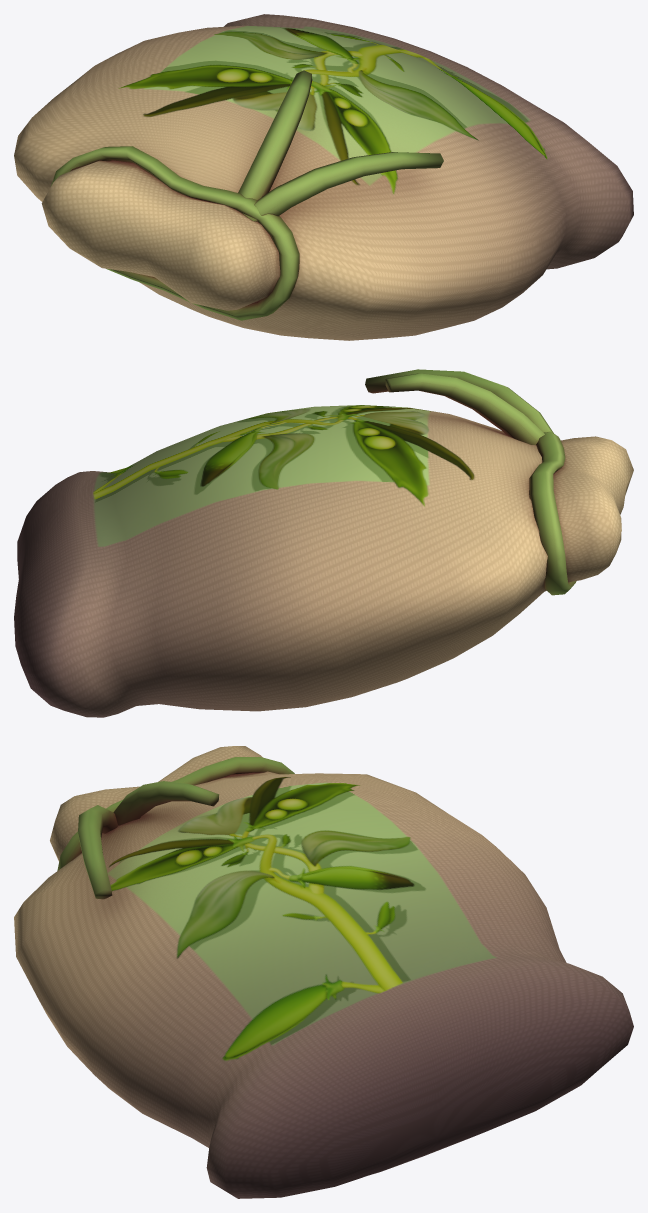
Rendered from PeasumSeed.fbx.
The picture shows the model from 3 angles, top to bottom: view 1: azimuth 30°, elevation 25°; view 2: azimuth 150°, elevation 25°; view 3: azimuth 270°, elevation 25°; orthographic projection. The views are drawn at different scales.
Parts seen in each view (by area): view 1: SemillasPeasum; view 2: SemillasPeasum; view 3: SemillasPeasum.
Part boxes in pixels (<box>): SemillasPeasum: <box>14,14,633,340</box>; SemillasPeasum: <box>14,369,633,717</box>; SemillasPeasum: <box>14,746,633,1198</box>.
Size of the model in its own units: 63.5 by 30.17 by 60.36.
Materials: 1 (1 with a texture image).
